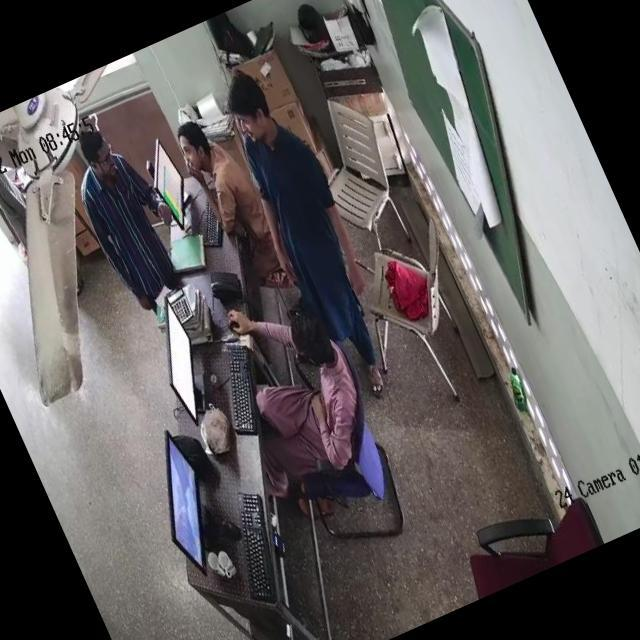person: (206, 58, 396, 400), (229, 298, 387, 488), (173, 108, 292, 296), (60, 115, 178, 287)
